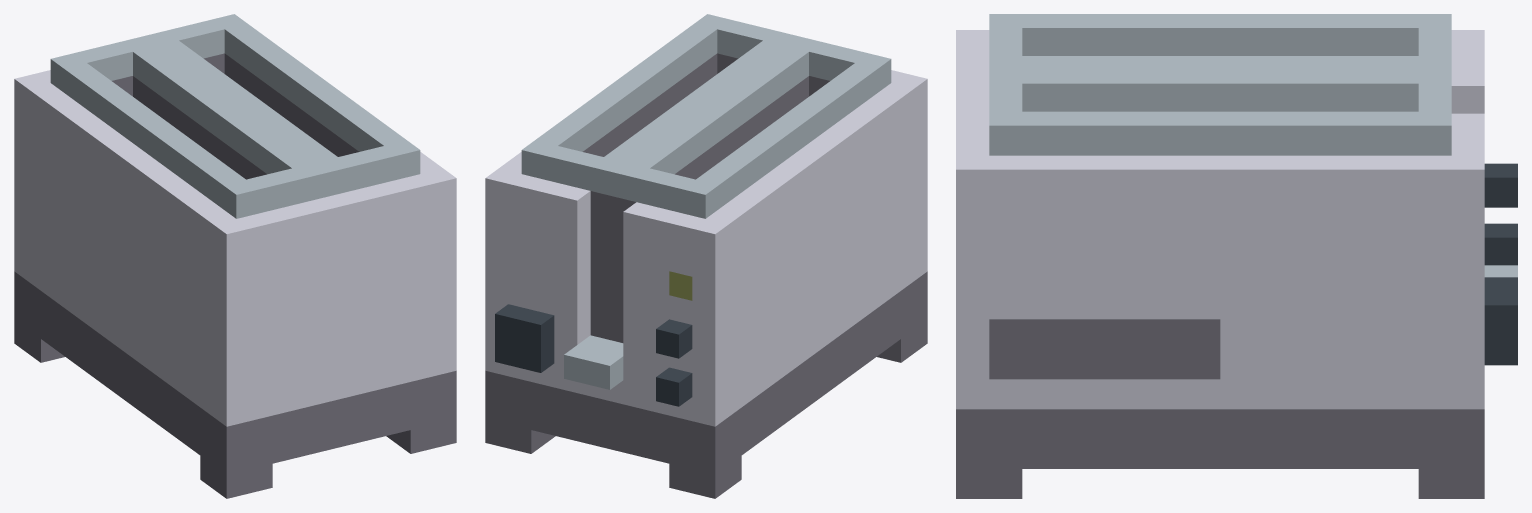
File: toaster.glb
The picture shows the model from 3 angles, left to right: view 1: azimuth 30°, elevation 25°; view 2: azimuth 150°, elevation 25°; view 3: azimuth 270°, elevation 25°; orthographic projection. The views are drawn at different scales.
Visible parts, largest first — view 1: Untitled; view 2: Untitled, Untitled.001; view 3: Untitled.
Boxes of the visible parts, left/top/right/bottom form: Untitled: left=14, top=14, right=456, bottom=498; Untitled: left=485, top=14, right=927, bottom=498; Untitled.001: left=669, top=271, right=692, bottom=300; Untitled: left=956, top=14, right=1517, bottom=498.
Size of the model in its own units: 0.3 by 0.36 by 0.51.
Materials: 2 (2 with a texture image).
